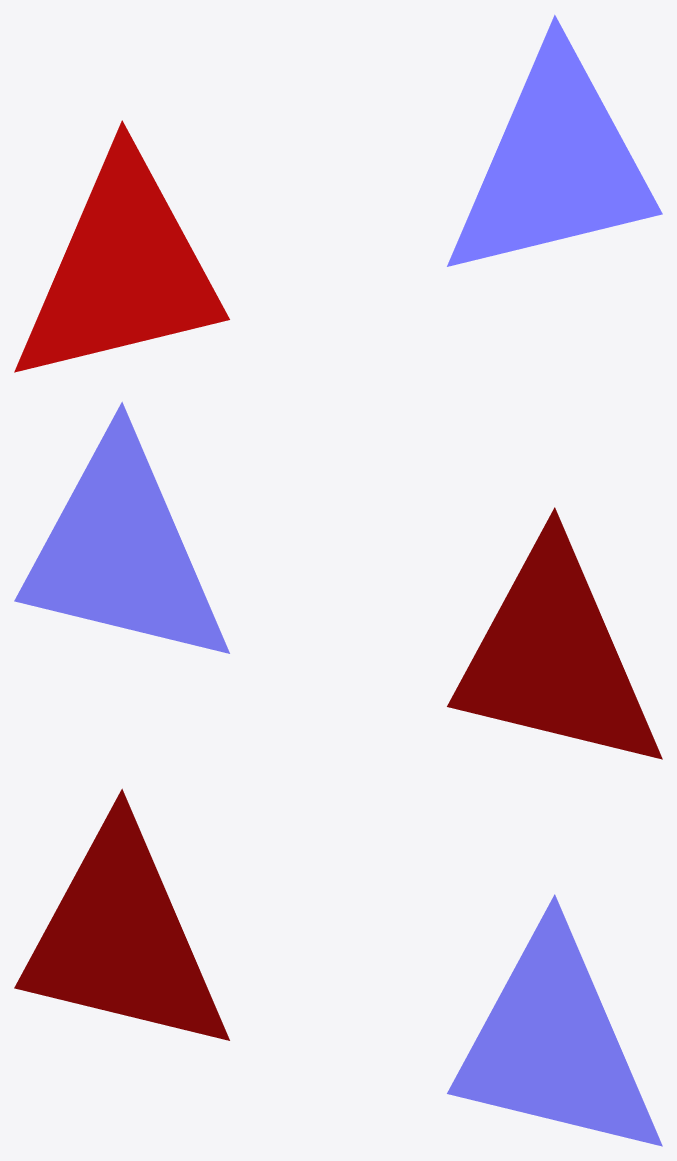
The model's file is seed_multi_material.glb.
The picture shows the model from 3 angles, top to bottom: view 1: azimuth 30°, elevation 25°; view 2: azimuth 150°, elevation 25°; view 3: azimuth 330°, elevation 25°; orthographic projection.
Parts seen in each view (by area): view 1: MultiMatMesh; view 2: MultiMatMesh; view 3: MultiMatMesh.
Boxes of the visible parts, left/top/right/bottom form: MultiMatMesh: left=14, top=14, right=662, bottom=372; MultiMatMesh: left=14, top=401, right=662, bottom=759; MultiMatMesh: left=14, top=788, right=662, bottom=1146.
Size of the model in its own units: 3 by 1 by 0.
